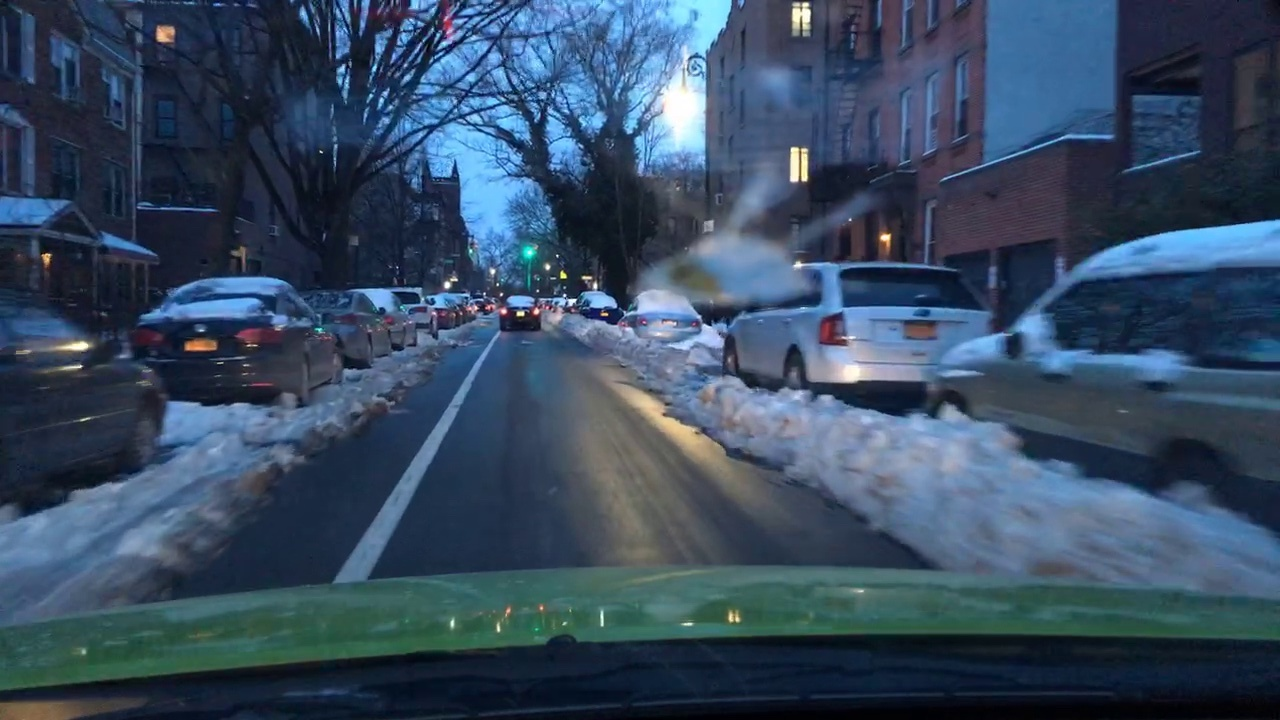car: (937, 233, 1276, 530), (725, 258, 993, 423), (2, 280, 171, 488), (136, 273, 346, 405), (305, 283, 394, 368), (615, 291, 704, 357), (495, 293, 545, 333), (580, 292, 624, 331)
